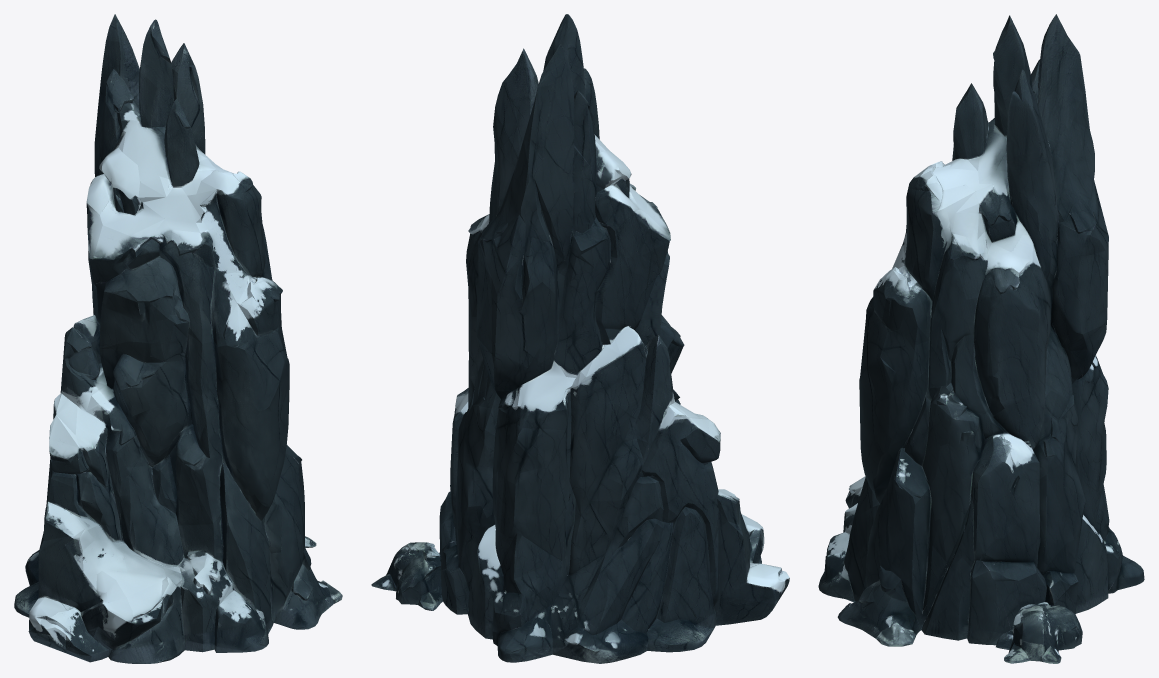
File: cover_full_snow.A.raw.glb
3 renders of one model, left to right at view 1: azimuth 30°, elevation 25°; view 2: azimuth 150°, elevation 25°; view 3: azimuth 270°, elevation 25°, orthographic. The views are drawn at different scales.
Size of the model in its own units: 1.14 by 1.9 by 0.9865.
1 material, 1 textured.
